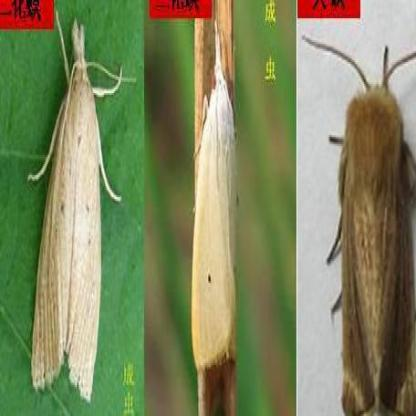stem-borer: (26, 12, 136, 404), (315, 39, 416, 416), (191, 21, 240, 370)
